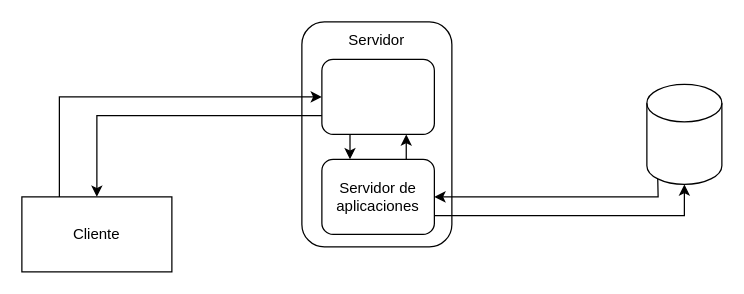
This 744x294 diagram has some shape labels left out. Here are the shapes that lost their labels. From the top down, the box of each, then its label:
(321, 58, 434, 134): Servidor web
(646, 83, 722, 184): BD
